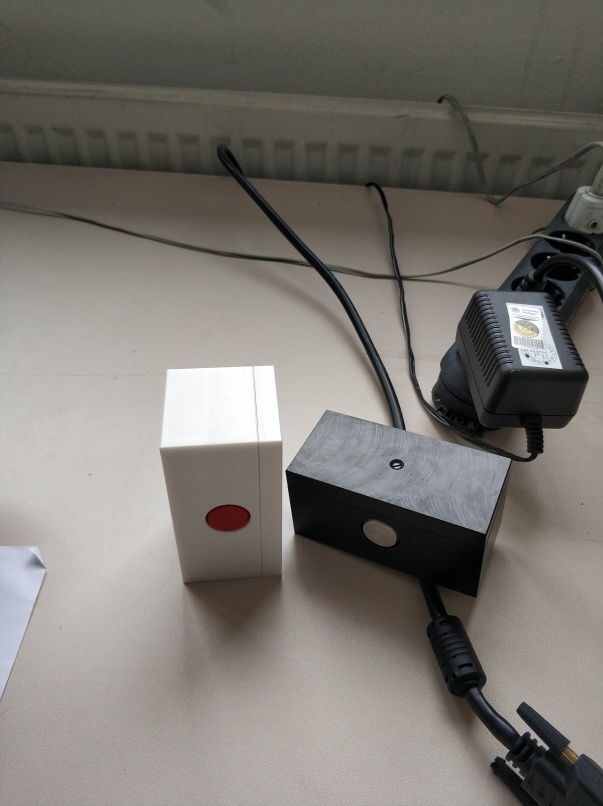black+black+silver: (283, 405, 514, 601)
white+white+red: (158, 361, 288, 586)
